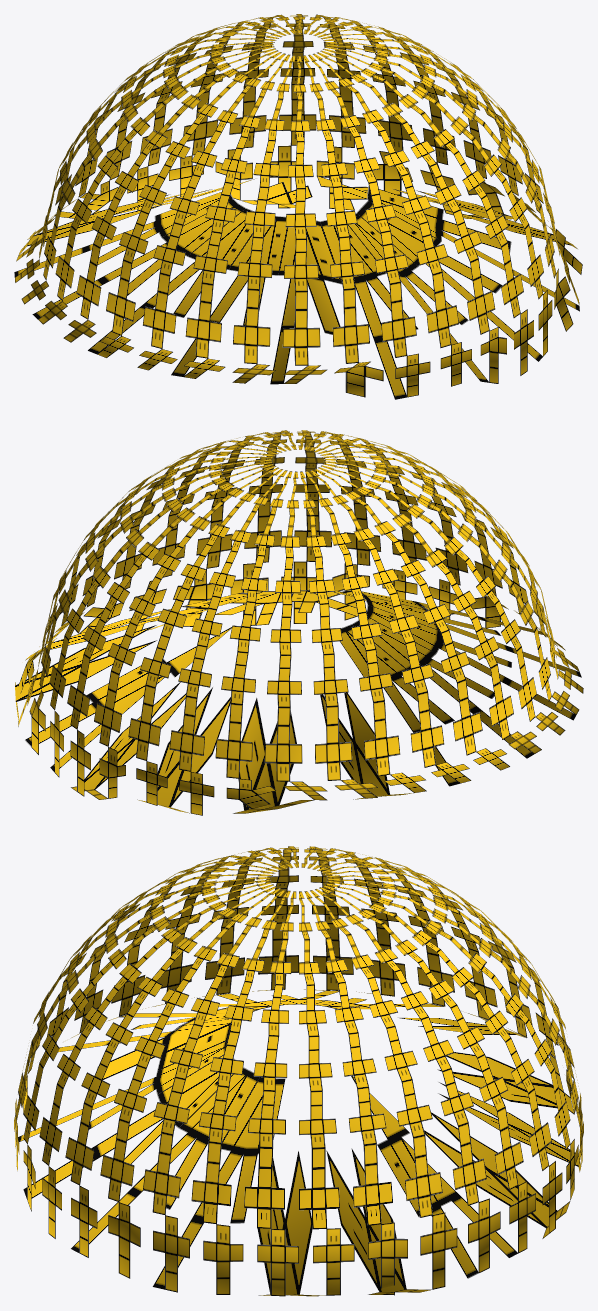
The model's file is warHat.fbx.
The picture shows the model from 3 angles, top to bottom: view 1: azimuth 30°, elevation 25°; view 2: azimuth 150°, elevation 25°; view 3: azimuth 270°, elevation 25°; orthographic projection. The views are drawn at different scales.
Visible parts, largest first — view 1: helmet; view 2: helmet; view 3: helmet.
Boxes of the visible parts, left/top/right/bottom form: helmet: left=14, top=14, right=582, bottom=399; helmet: left=15, top=430, right=583, bottom=815; helmet: left=14, top=846, right=583, bottom=1296.
Bounding box in the file's own units: 3.29 × 1.69 × 2.9.
Materials: 1 (1 with a texture image).
